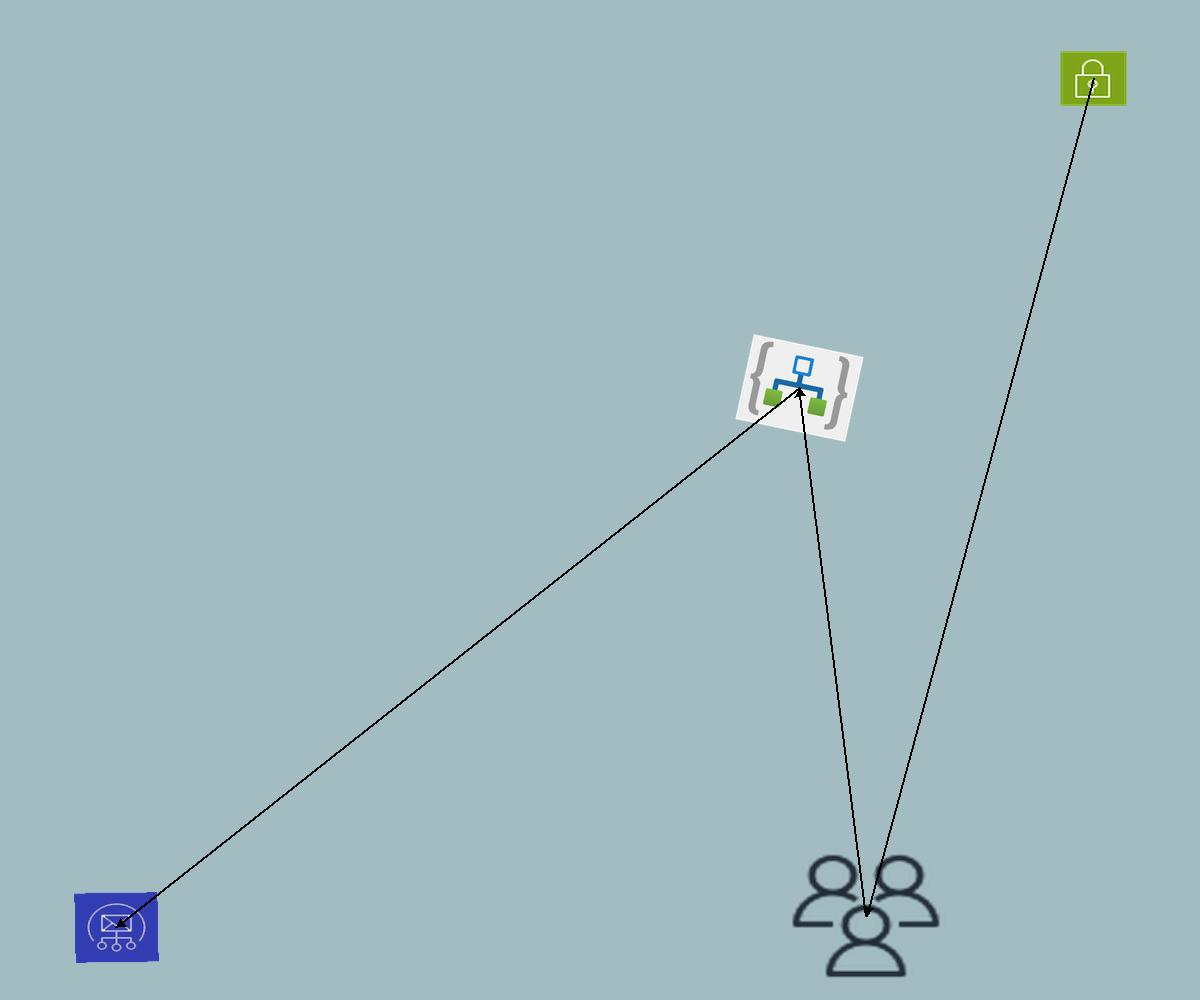AWS-Public-subnet: (1059, 50, 1128, 107)
AWS-Res_Users: (783, 847, 949, 985)
AWS-Simple-Email-Service: (74, 892, 159, 963)
Azure_integration-204-Logic-Apps: (735, 334, 864, 442)
